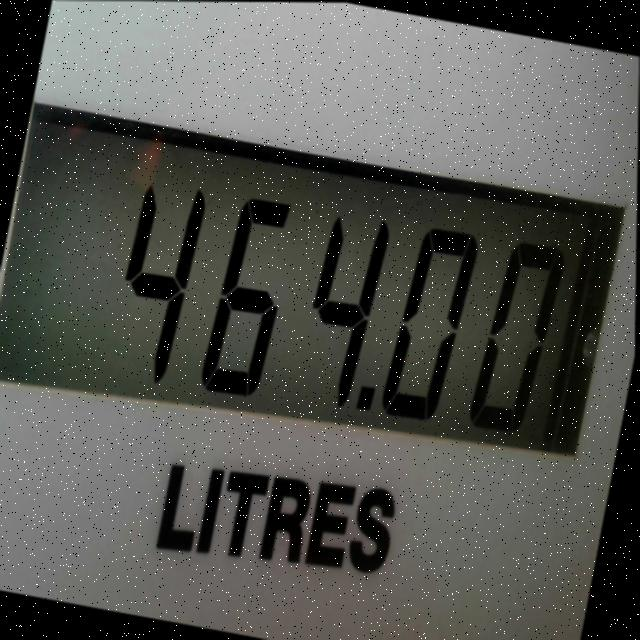.: (343, 362, 387, 434)
0: (459, 225, 574, 439), (375, 217, 488, 429)
4: (92, 168, 225, 400), (289, 193, 398, 425)
6: (189, 185, 312, 412)
